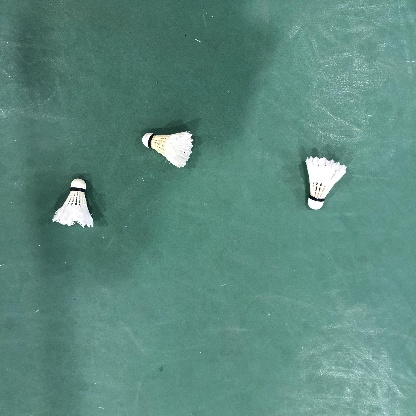ball_single: (306, 156, 347, 210), (52, 179, 93, 228), (142, 132, 194, 168)
